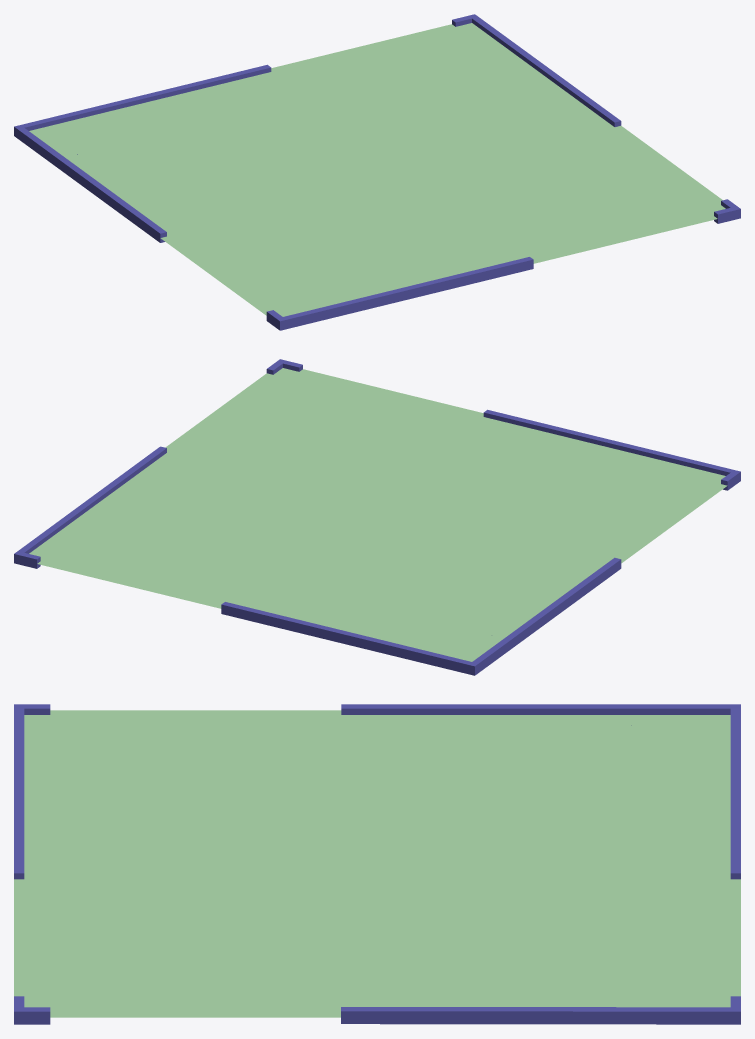
Rendered from winj.gltf.
3 renders of one model, top to bottom at view 1: azimuth 30°, elevation 25°; view 2: azimuth 150°, elevation 25°; view 3: azimuth 270°, elevation 25°, orthographic. The views are drawn at different scales.
Visible parts, largest first — view 1: md12_, md9_, md1_, md3_, md5_; view 2: md12_, md3_, md1_, md9_, md5_, md2_; view 3: md12_, md5_, md1_, md3_, md9_, md4_, md10_.
Part boxes in pixels (<box>): md12_: <box>29,23,725,316</box>; md9_: <box>300,257,533,324</box>; md1_: <box>27,134,166,242</box>; md3_: <box>37,64,271,127</box>; md5_: <box>481,24,621,126</box>; md12_: <box>29,368,727,661</box>; md3_: <box>221,602,454,669</box>; md1_: <box>482,557,621,665</box>; md9_: <box>483,409,717,472</box>; md5_: <box>27,446,166,549</box>; md2_: <box>451,655,488,675</box>; md12_: <box>14,710,740,1017</box>; md5_: <box>341,1007,704,1024</box>; md1_: <box>341,704,704,714</box>; md3_: <box>730,719,740,879</box>; md9_: <box>14,719,24,879</box>; md4_: <box>704,996,740,1024</box>; md10_: <box>14,996,50,1024</box>.
Size of the model in its own units: 100 by 2.02 by 100.
